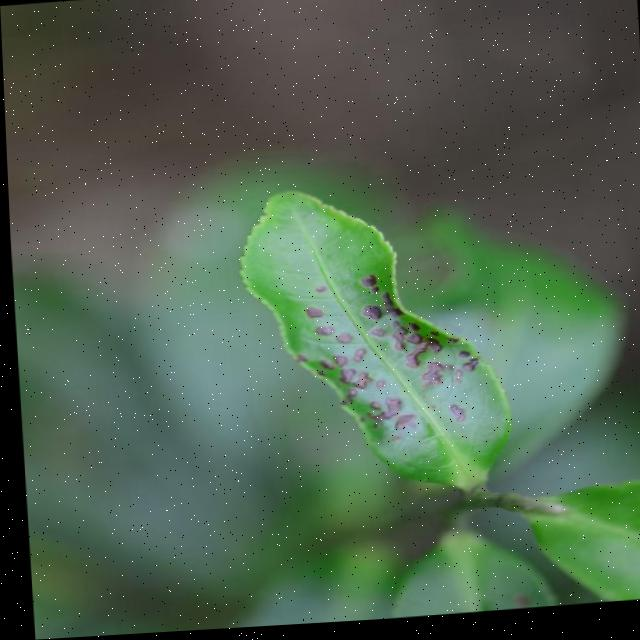Tea red scab: (294, 286, 485, 471)
